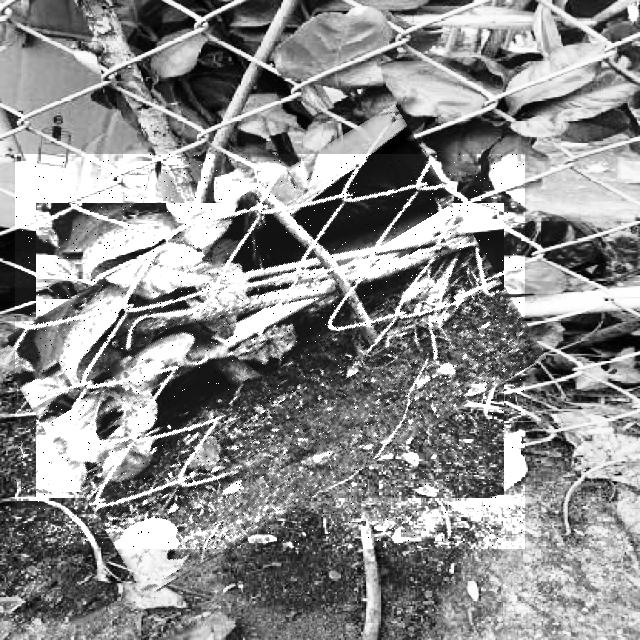anomaly-fence: (15, 154, 525, 549)
